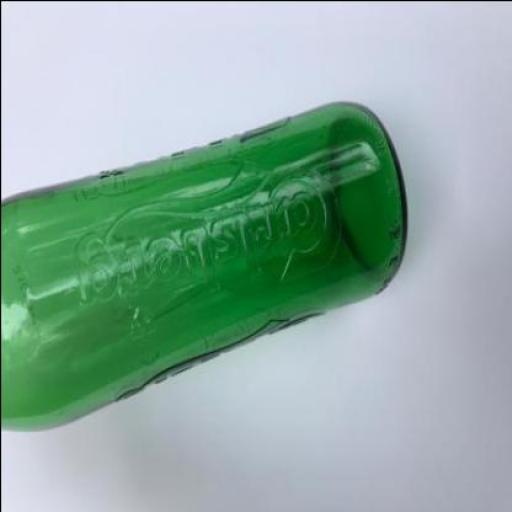glass: (1, 100, 406, 430)
